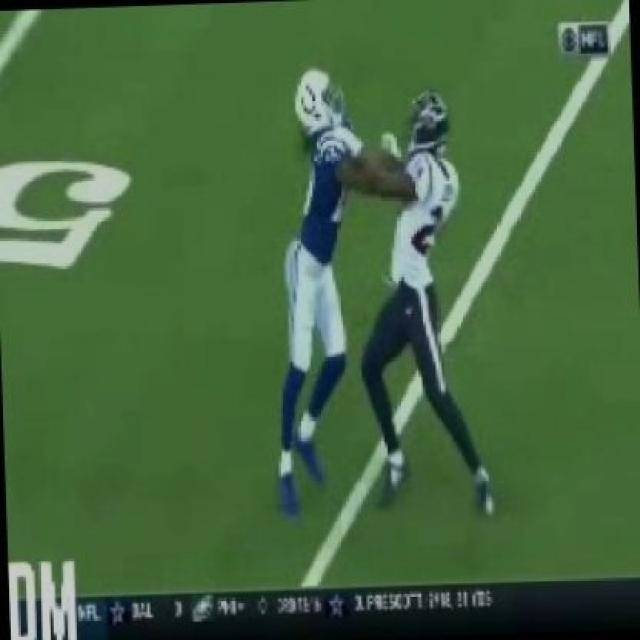fight: (266, 60, 494, 523)
